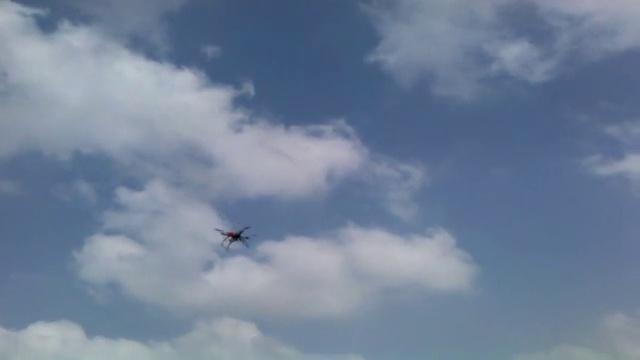drone: (213, 222, 256, 249)
